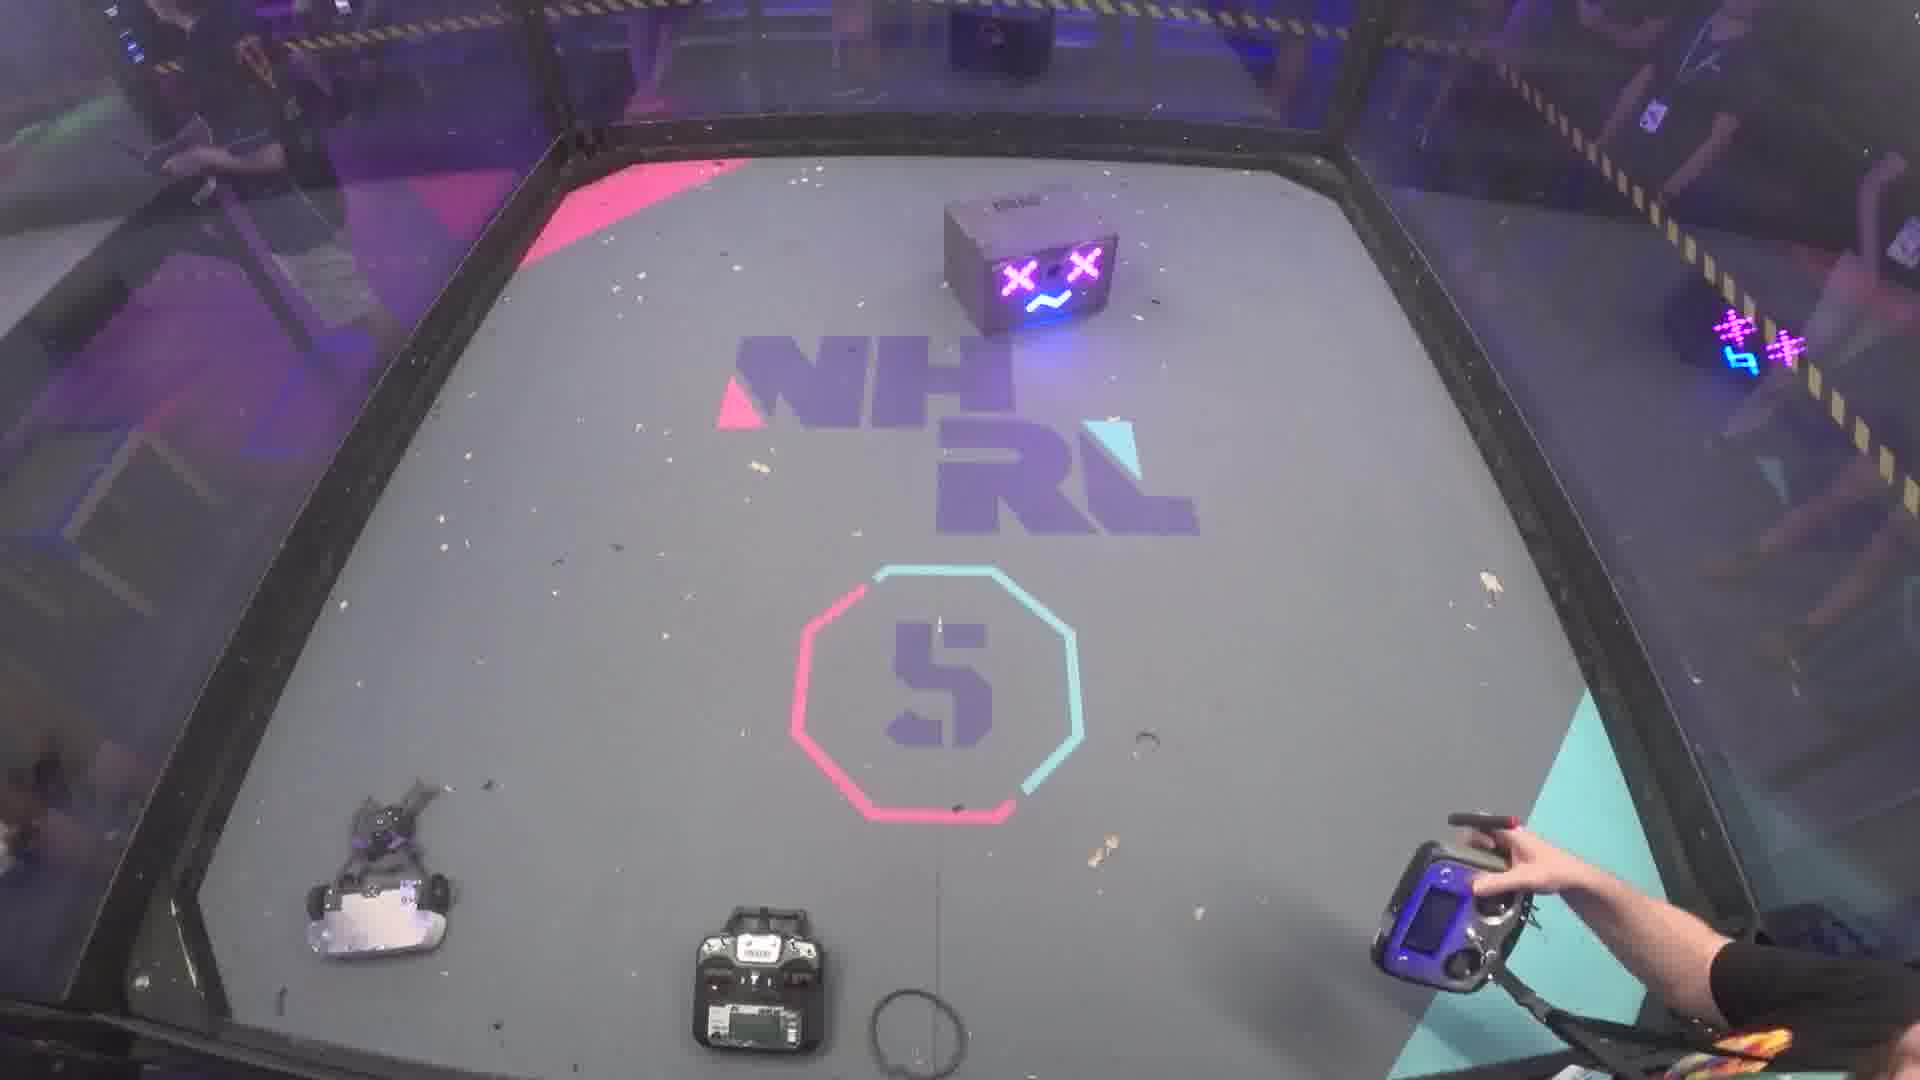belt: (866, 986, 971, 1077)
combatbot: (305, 778, 452, 957)
housebot: (944, 190, 1121, 336)
